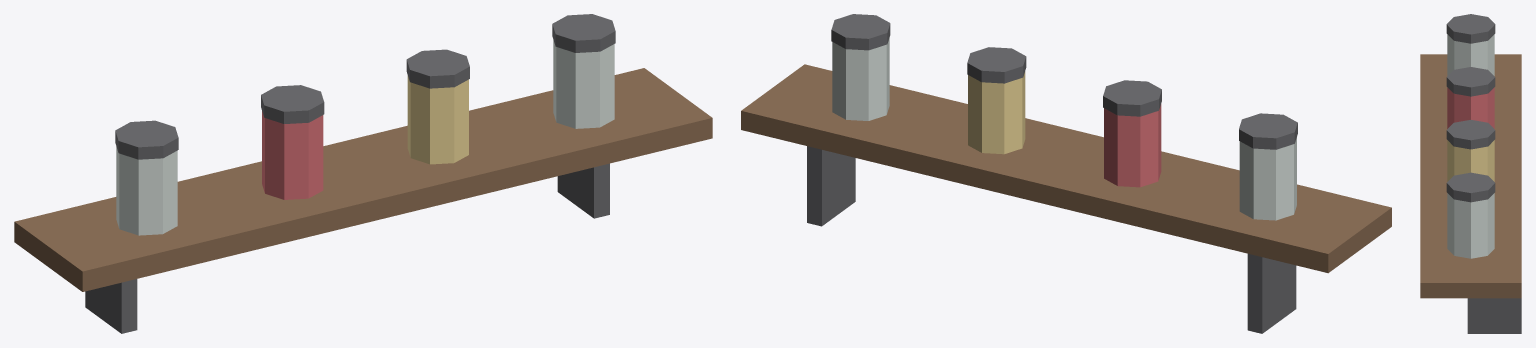
File: prop_shelf.glb
The picture shows the model from 3 angles, left to right: view 1: azimuth 30°, elevation 25°; view 2: azimuth 150°, elevation 25°; view 3: azimuth 270°, elevation 25°; orthographic projection. The views are drawn at different scales.
Visible parts, largest first — view 1: Board, Bracket.-1, Jar.0, Jar.2, Jar.1; view 2: Board, Bracket.-1, Jar.0, Jar.2, Jar.1; view 3: Board, Bracket.-1, Jar.0, Jar.1, Jar.2.
Boxes of the visible parts, x1,y1,x2,y2 form: Board: (14, 68, 712, 291); Bracket.-1: (85, 14, 615, 333); Jar.0: (116, 40, 614, 235); Jar.2: (407, 75, 468, 164); Jar.1: (262, 111, 323, 199); Board: (741, 64, 1391, 273); Bracket.-1: (807, 14, 1297, 333); Jar.0: (832, 38, 1296, 220); Jar.2: (968, 71, 1025, 154); Jar.1: (1104, 104, 1161, 187); Board: (1420, 54, 1521, 298); Bracket.-1: (1446, 14, 1521, 333); Jar.0: (1447, 34, 1494, 258); Jar.1: (1447, 87, 1494, 128); Jar.2: (1447, 140, 1494, 181).
Size of the model in its own units: 1.6 by 0.465 by 0.3.
